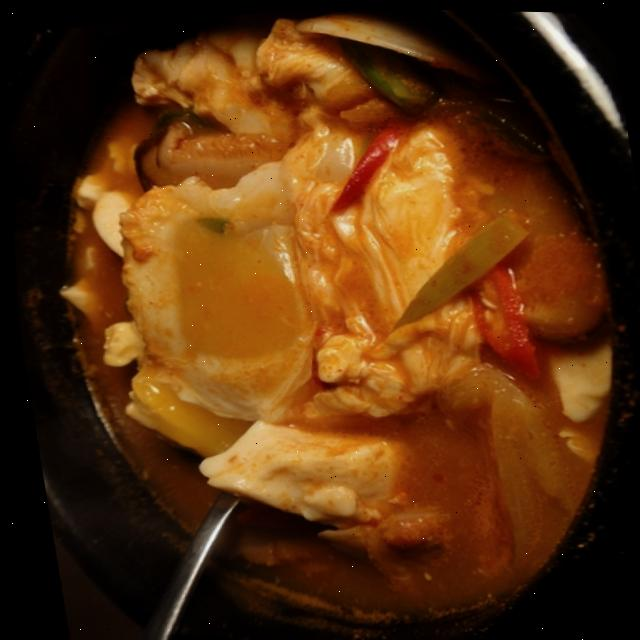汤锅炖物: (1, 0, 640, 639)
